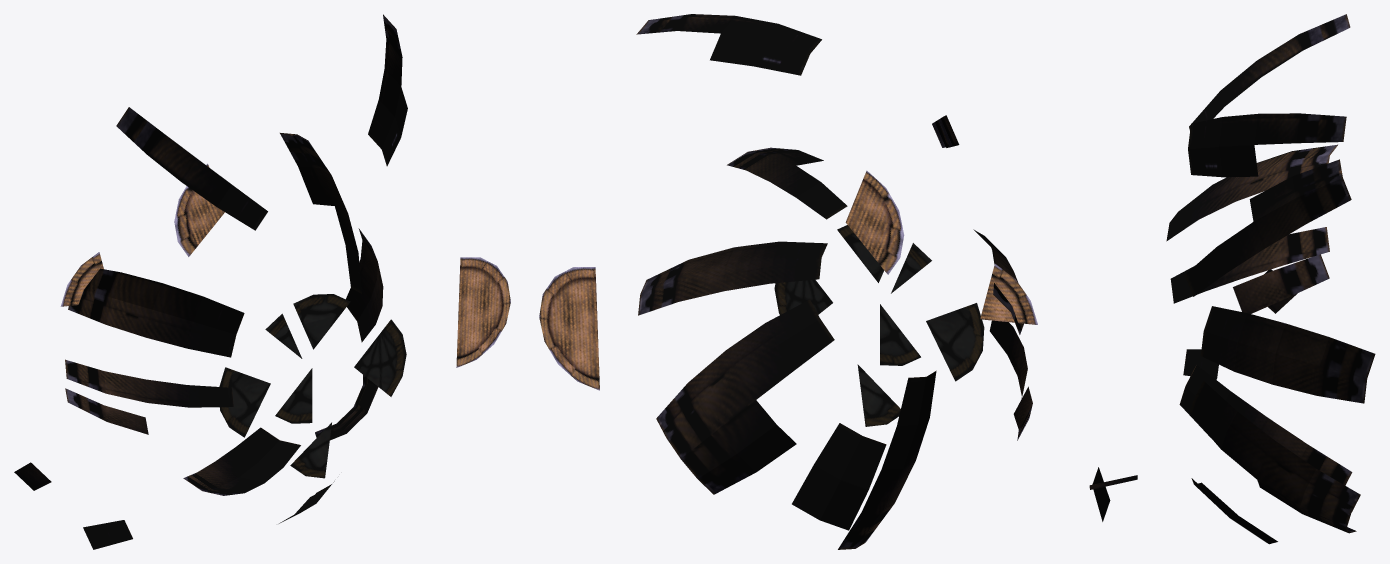
File: ex_BarrelAnimate_000004.obj
3 views of the same model, side by side, from view 1: azimuth 30°, elevation 25°; view 2: azimuth 150°, elevation 25°; view 3: azimuth 270°, elevation 25° (orthographic). The views are drawn at different scales.
Size of the model in its own units: 272 by 226 by 86.49.
Materials: 1 (1 with a texture image).
